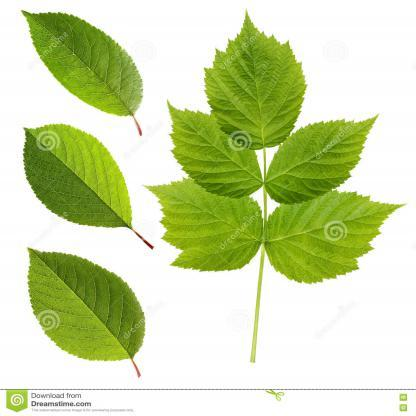Raspberry leaf: (206, 8, 308, 152), (264, 187, 406, 285), (141, 182, 265, 272), (265, 114, 378, 206), (166, 102, 264, 198)
